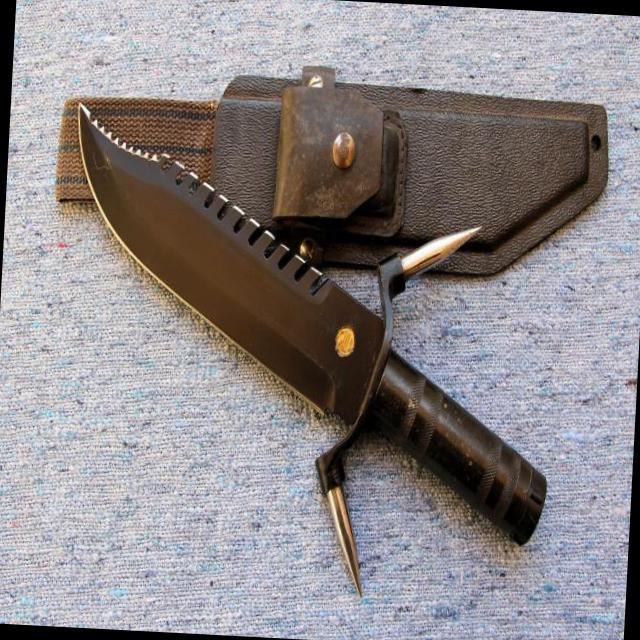Knife: (57, 93, 382, 410)
